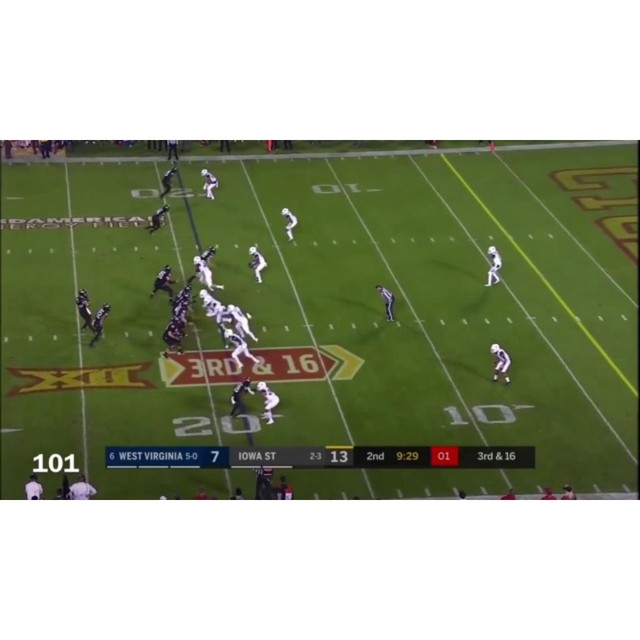american-football-player: (223, 328, 267, 371), (226, 303, 259, 342), (191, 256, 224, 293), (229, 376, 255, 420), (198, 288, 226, 327), (162, 314, 187, 357), (88, 303, 111, 349), (256, 381, 280, 425), (149, 264, 176, 302), (490, 343, 512, 386), (247, 245, 268, 282), (146, 204, 170, 236), (484, 246, 503, 286), (158, 166, 180, 200), (75, 288, 92, 332), (193, 245, 219, 270), (281, 207, 298, 244), (200, 168, 219, 200), (172, 285, 193, 307)
referee: (375, 282, 398, 326)
